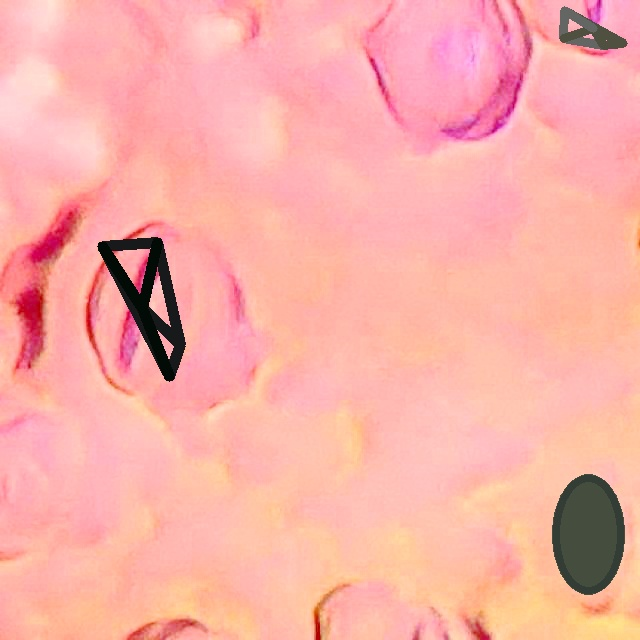open: (98, 237, 185, 380), (552, 473, 624, 594), (559, 6, 627, 49)
